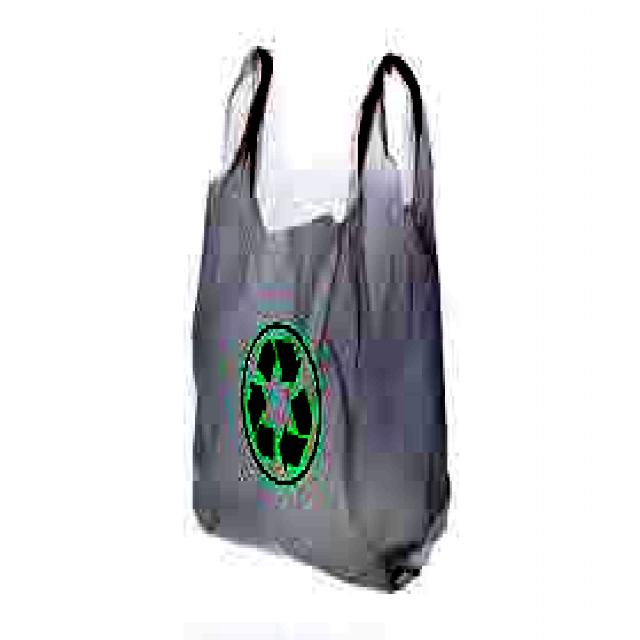Plastic: (195, 44, 450, 596)
